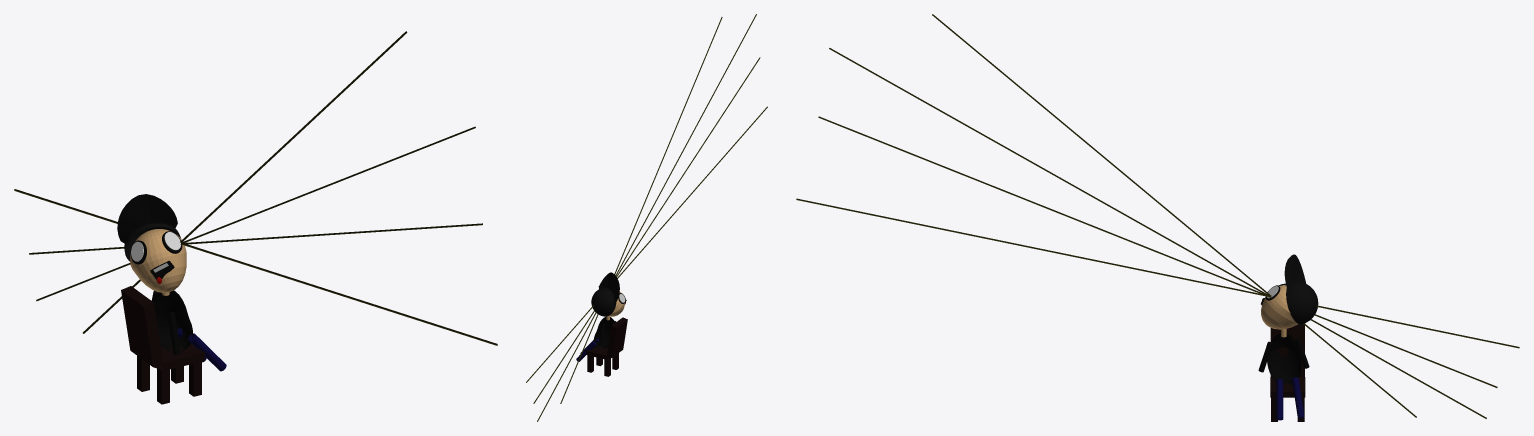
Rendered from mindblown.obj.
The picture shows the model from 3 angles, left to right: view 1: azimuth 30°, elevation 25°; view 2: azimuth 150°, elevation 25°; view 3: azimuth 270°, elevation 25°; orthographic projection. The views are drawn at different scales.
Parts seen in each view (by area): view 1: Face_Sphere.001, Chair_Cube.008, Body_Sphere.002, Cube.003_Cube.016, Cube.002_Cube.015, Cube_Cube.013, Cube.001_Cube.014; view 2: Chair_Cube.008, Face_Sphere.001, Cube.002_Cube.015, Cube.001_Cube.014, Cube_Cube.013, Cube.003_Cube.016, Body_Sphere.002; view 3: Face_Sphere.001, Cube.003_Cube.016, Cube.002_Cube.015, Cube_Cube.013, Body_Sphere.002, Cube.001_Cube.014, Chair_Cube.008.
Part boxes in pixels (x1=…): Face_Sphere.001: x1=117, y1=194, x2=186, y2=292; Chair_Cube.008: x1=121, y1=286, x2=204, y2=404; Body_Sphere.002: x1=151, y1=290, x2=192, y2=351; Cube.003_Cube.016: x1=14, y1=189, x2=497, y2=345; Cube.002_Cube.015: x1=36, y1=126, x2=475, y2=301; Cube_Cube.013: x1=29, y1=223, x2=482, y2=254; Cube.001_Cube.014: x1=82, y1=31, x2=407, y2=333; Chair_Cube.008: x1=586, y1=317, x2=627, y2=376; Face_Sphere.001: x1=591, y1=272, x2=626, y2=316; Cube.002_Cube.015: x1=537, y1=14, x2=756, y2=421; Cube.001_Cube.014: x1=560, y1=17, x2=722, y2=403; Cube_Cube.013: x1=533, y1=57, x2=760, y2=403; Cube.003_Cube.016: x1=526, y1=106, x2=767, y2=382; Body_Sphere.002: x1=593, y1=317, x2=615, y2=349; Face_Sphere.001: x1=1261, y1=254, x2=1318, y2=329; Cube.003_Cube.016: x1=796, y1=198, x2=1519, y2=348; Cube.002_Cube.015: x1=829, y1=48, x2=1486, y2=418; Cube_Cube.013: x1=818, y1=116, x2=1497, y2=387; Body_Sphere.002: x1=1267, y1=333, x2=1301, y2=386; Cube.001_Cube.014: x1=932, y1=14, x2=1416, y2=417; Chair_Cube.008: x1=1270, y1=324, x2=1305, y2=421.
Bounding box in the file's own units: 3.07 × 17.05 × 27.62.
